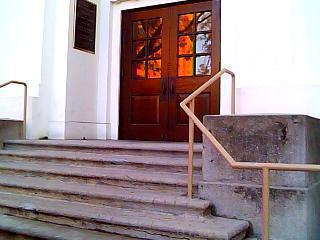Escaleras: (0, 138, 258, 239)
